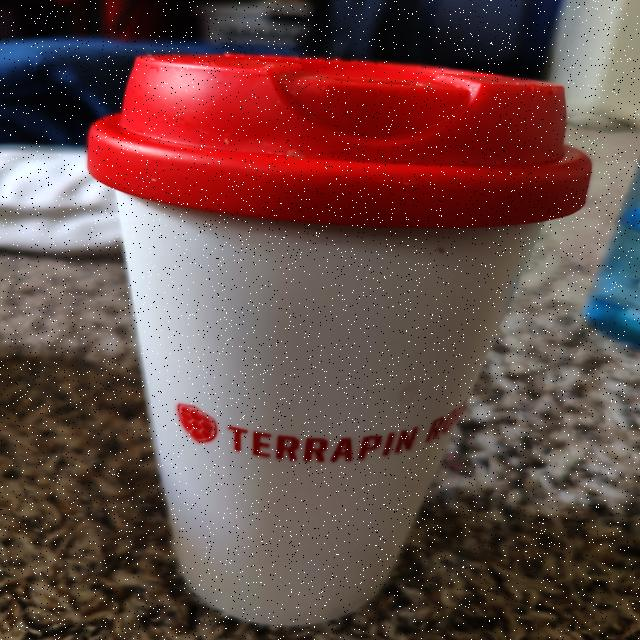mug: (93, 60, 573, 620)
